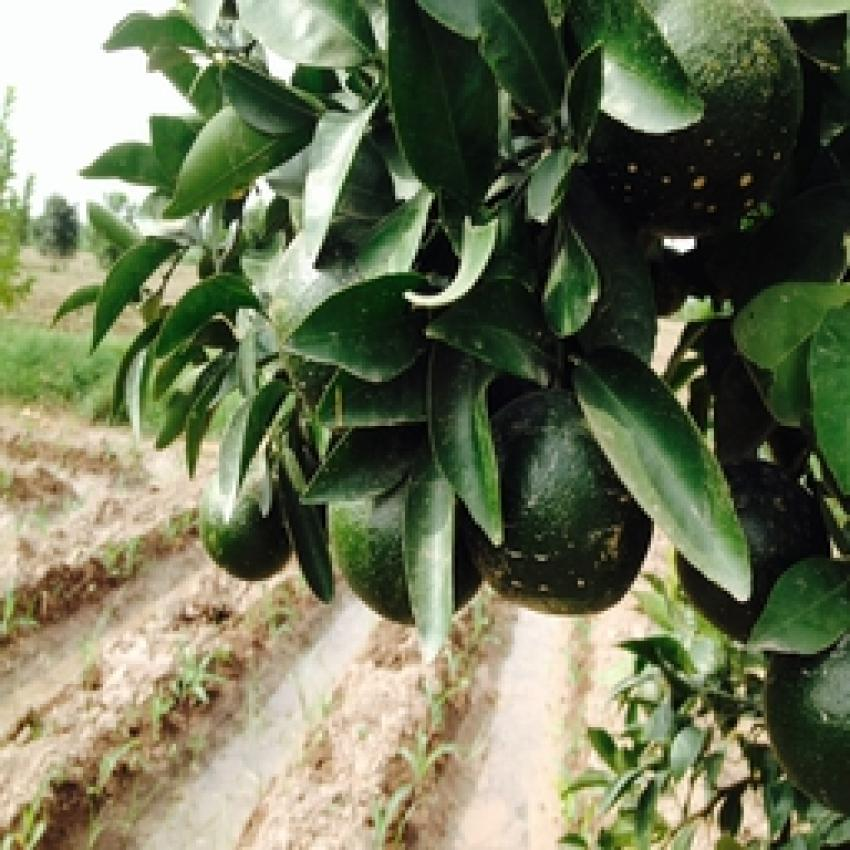Mal estado: (461, 370, 663, 630), (316, 428, 506, 651), (189, 435, 311, 593)
